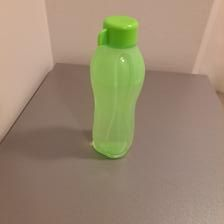bottle: (87, 12, 146, 157)
